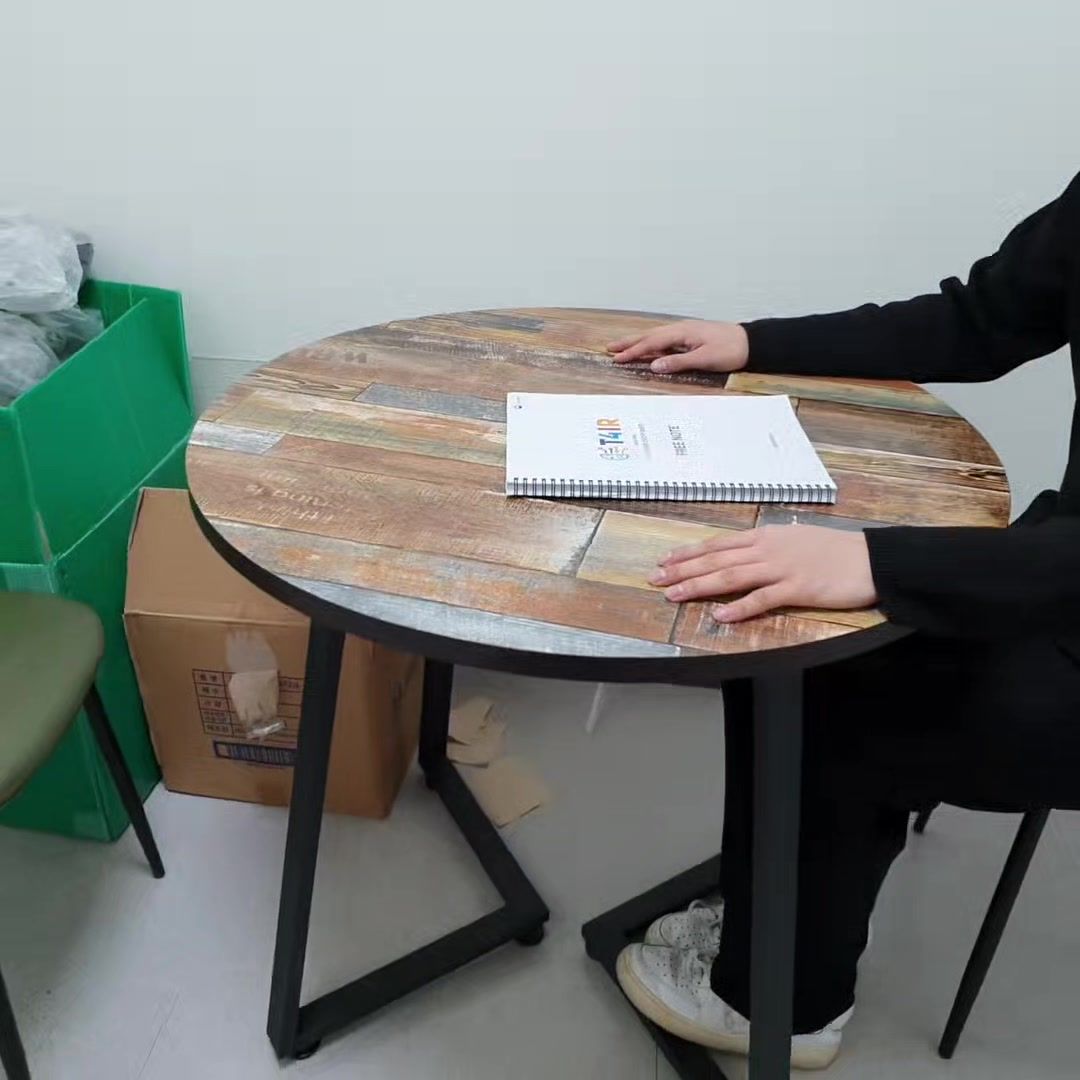book: (508, 391, 840, 508)
